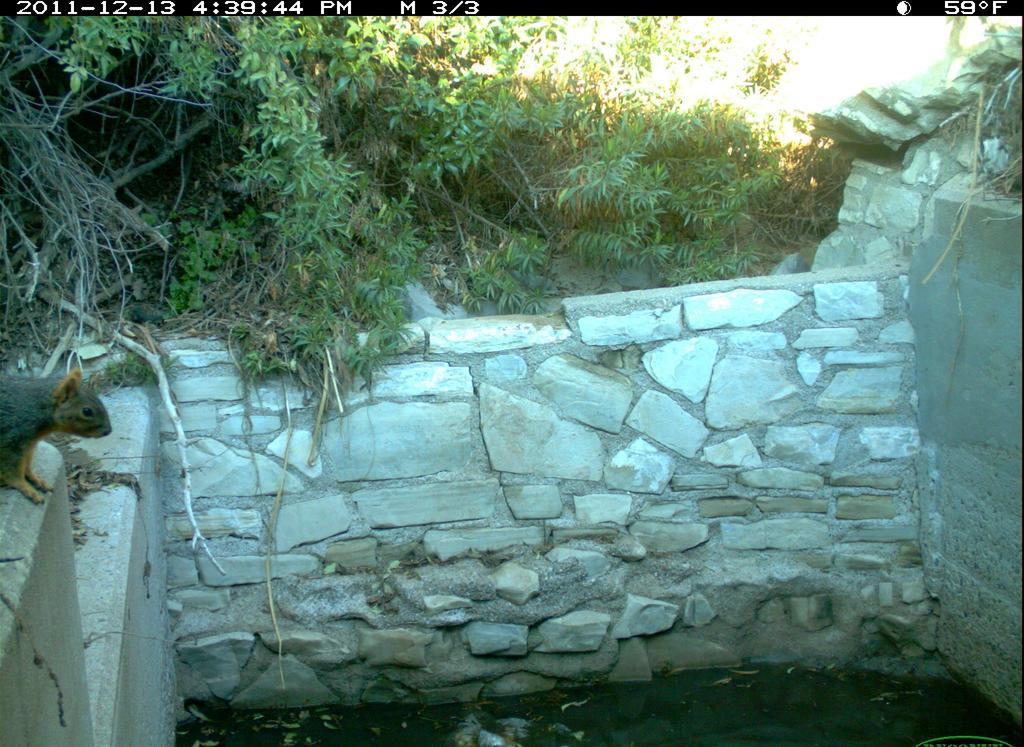squirrel: (2, 351, 140, 527)
